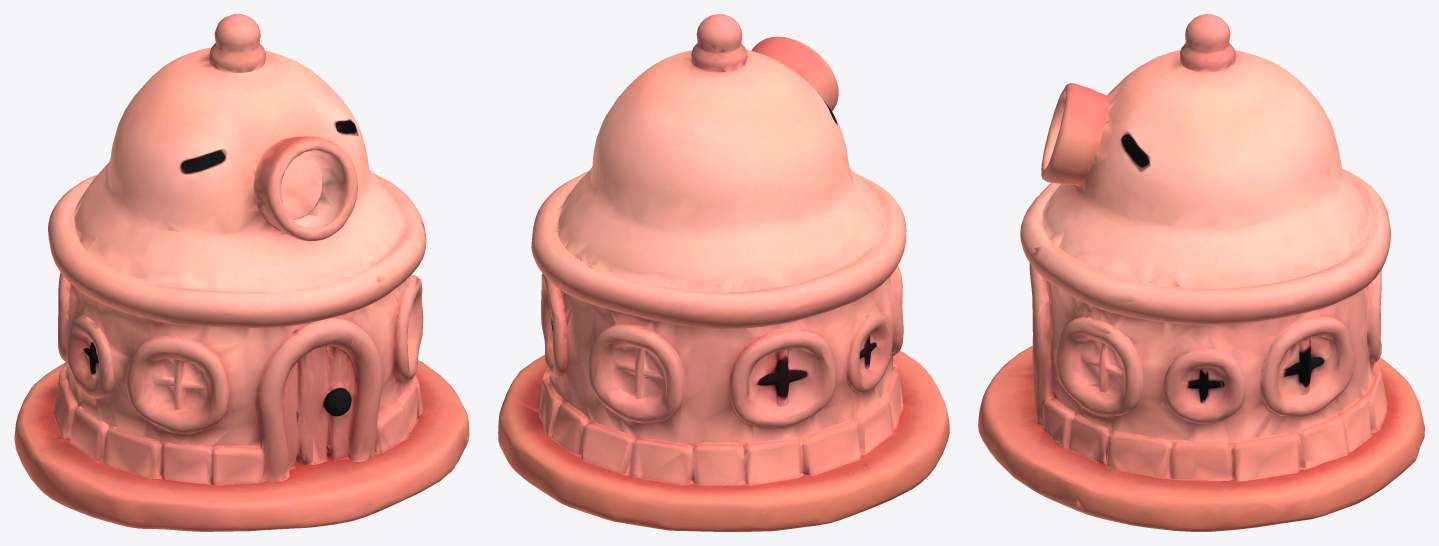
File: clay-observatory.glb
The picture shows the model from 3 angles, left to right: view 1: azimuth 30°, elevation 25°; view 2: azimuth 150°, elevation 25°; view 3: azimuth 270°, elevation 25°; orthographic projection.
Size of the model in its own units: 1.59 by 1.91 by 1.59.
Materials: 1 (1 with a texture image).
